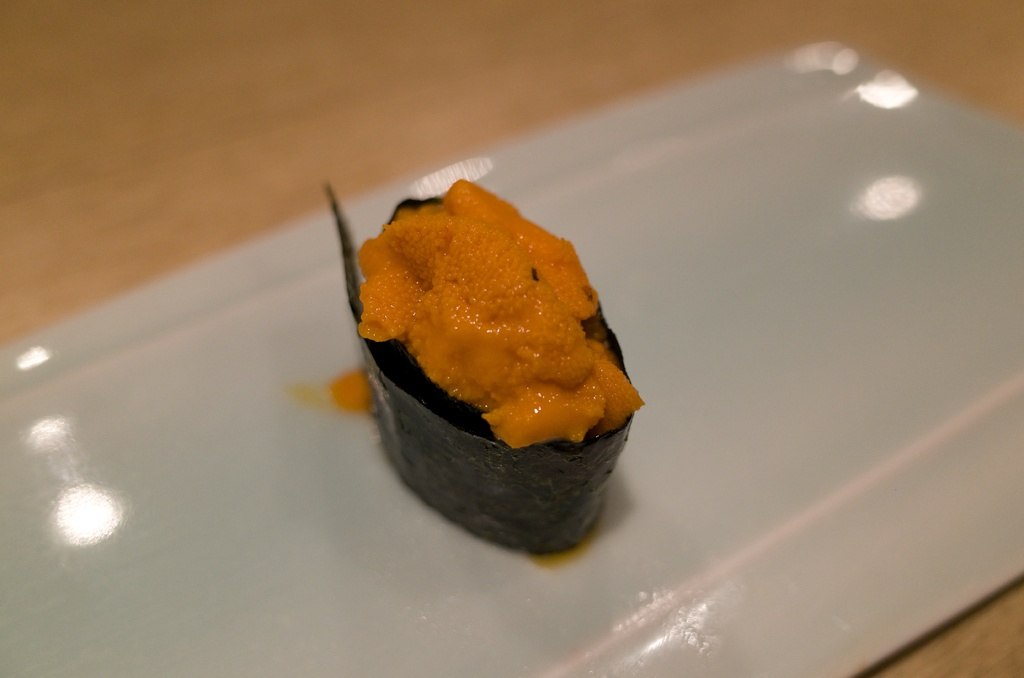sushi: (334, 174, 650, 561)
